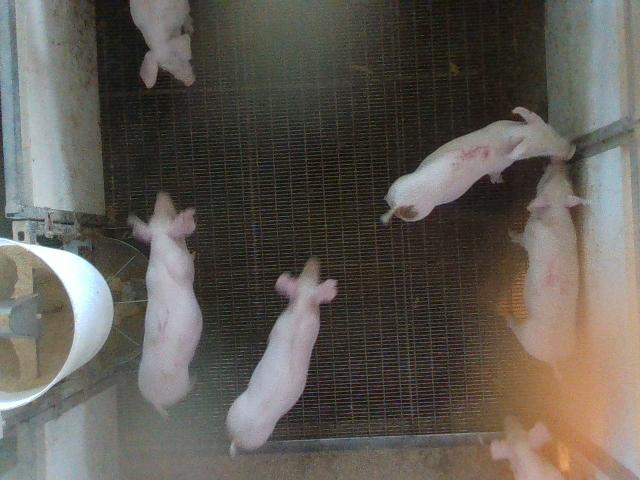pig-4: (509, 161, 581, 367)
pig-5: (382, 108, 575, 223)
